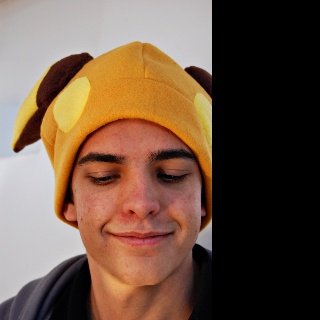without_mask: (61, 117, 208, 287)
